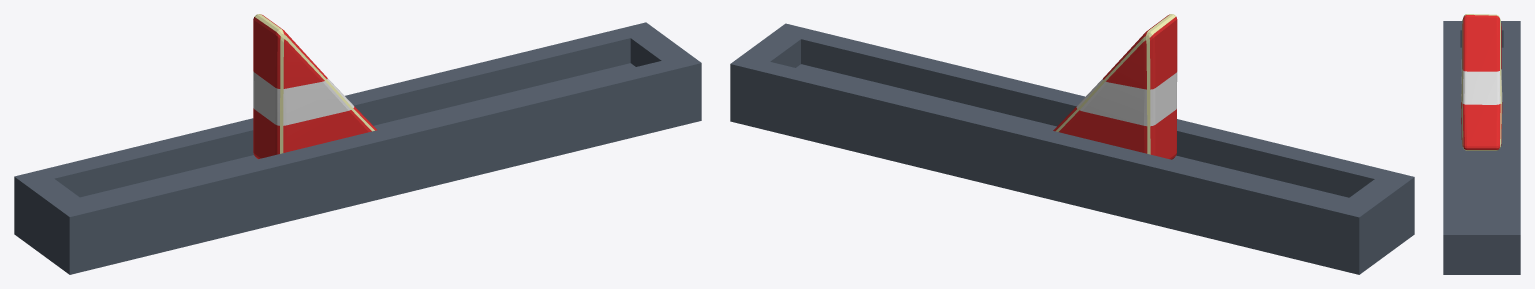
3 renders of one model, left to right at view 1: azimuth 30°, elevation 25°; view 2: azimuth 150°, elevation 25°; view 3: azimuth 270°, elevation 25°, orthographic. The views are drawn at different scales.
Parts seen in each view (by area): view 1: pCube35, pCube36; view 2: pCube35, pCube36; view 3: pCube35, pCube36.
Part boxes in pixels (x1,y1,x2,y2): pCube35: (14,22,701,274); pCube36: (253,14,377,159); pCube35: (730,23,1414,274); pCube36: (1053,14,1177,159); pCube35: (1443,21,1520,274); pCube36: (1461,14,1502,150).
Size of the model in its own units: 10.01 by 2.69 by 1.53.
